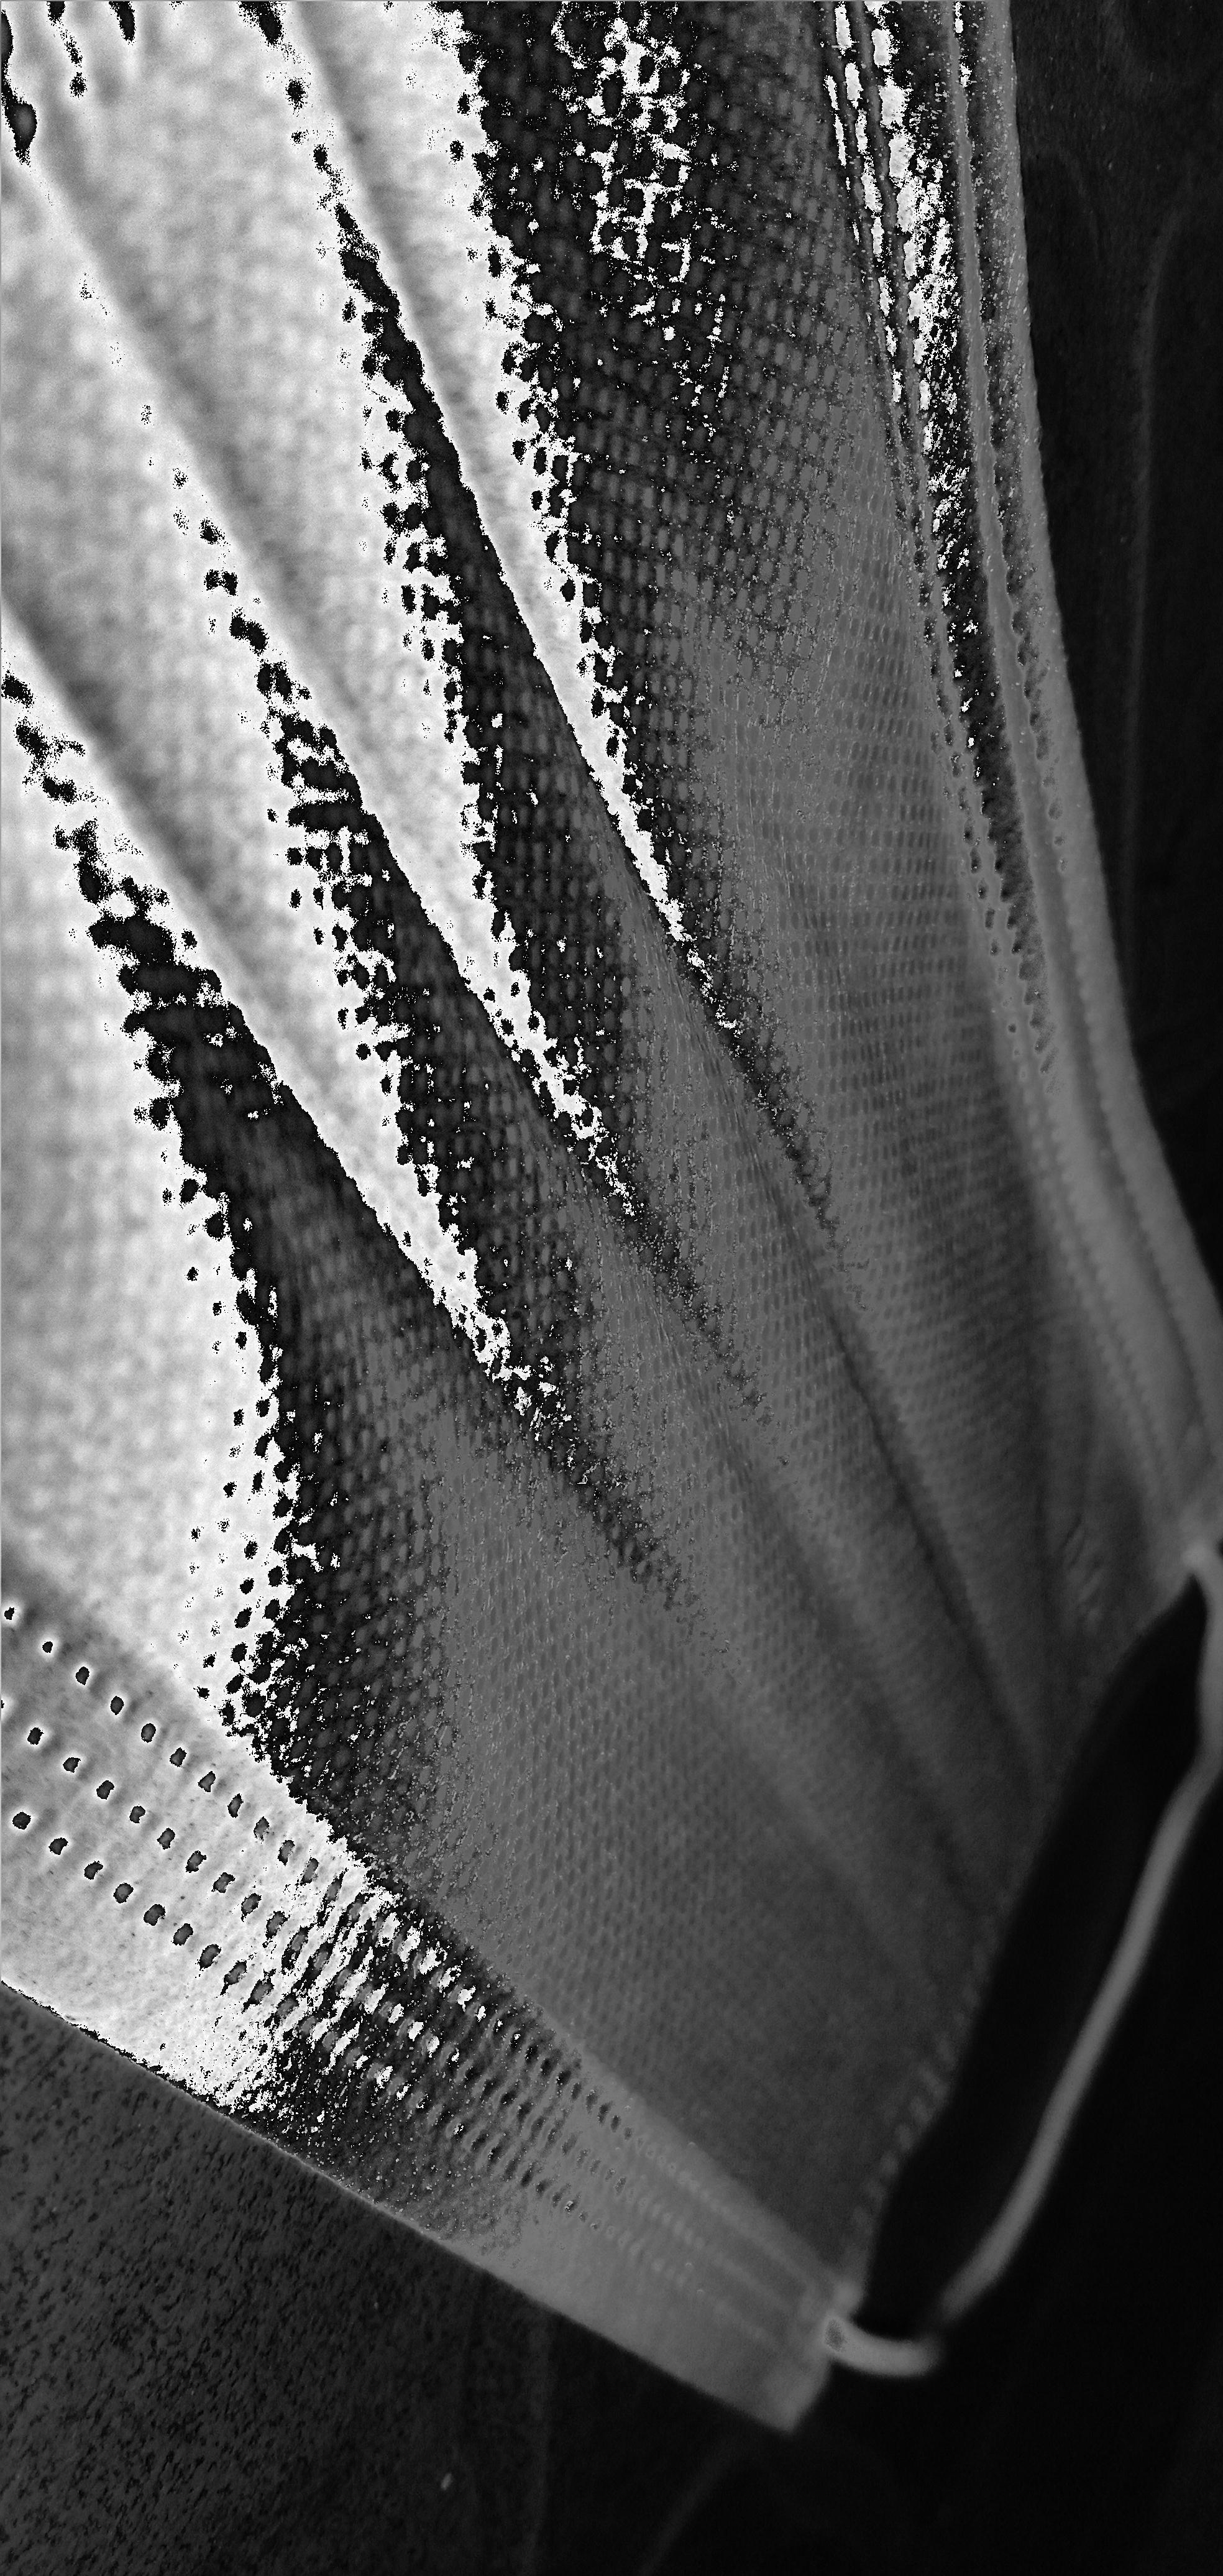High GSM: (0, 0, 832, 1774)
